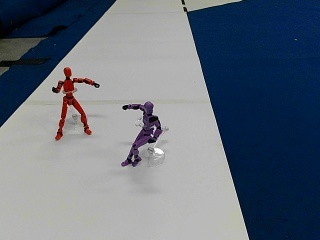pedestrian: (51, 65, 99, 139), (120, 100, 162, 166)
